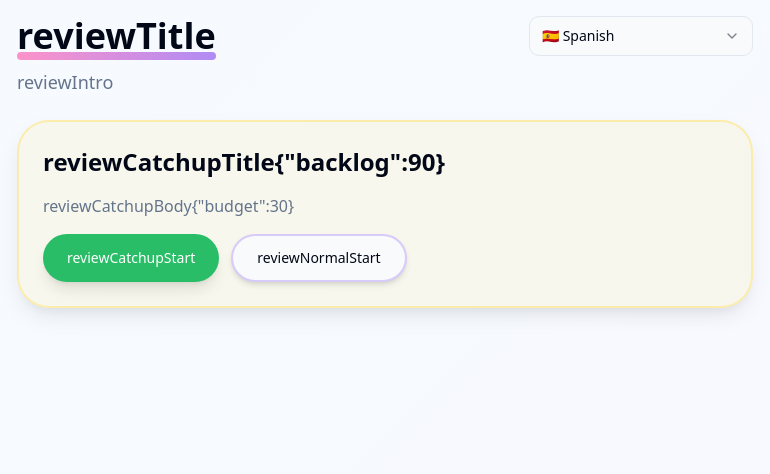
Test: ReviewPage › offers a gentle catch-up when a backlog has built up
Expected: the element with test id "catchup-offer" shows "\"backlog\":90", [43,145,445,178]
Expected: the element with test id "catchup-offer" shows "\"budget\":30", [43,195,294,217]
Click the button "reviewCatchupStart".
click(131, 258)  # box [43,234,219,282]
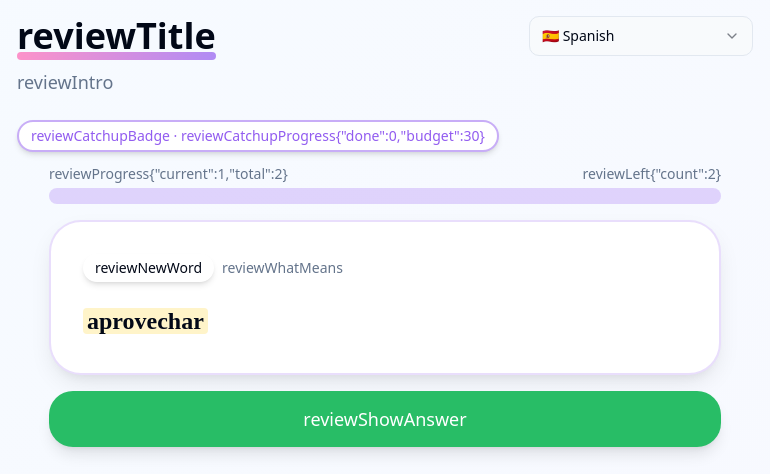
Expected: the element with test id "review-session" is shown, [49,164,721,447]
Expected: the text with test id "catchup-badge" shows "reviewCatchupProgress", [181,126,485,145]
